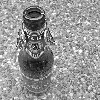beer: (10, 6, 59, 92)
